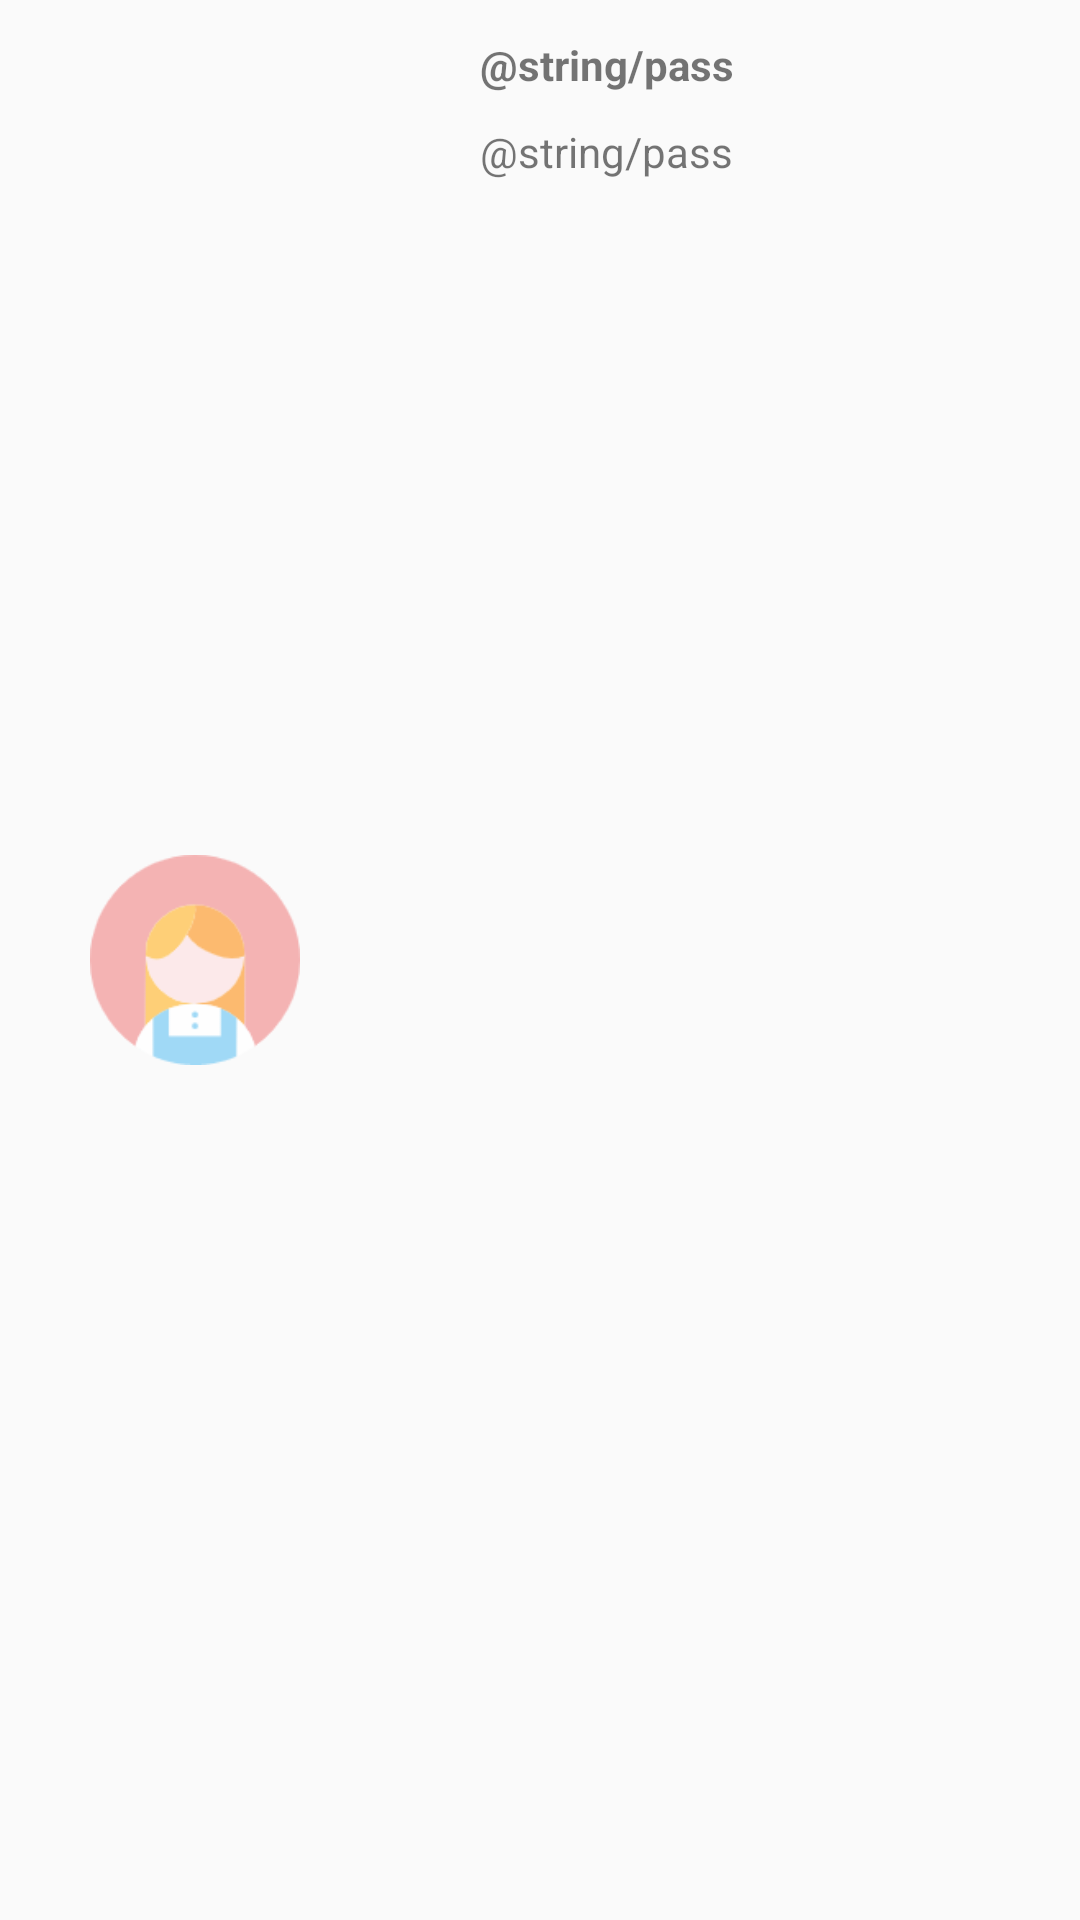

Screen size 1080px x 1920px. Icon name, then its box in pixels as (x1, y1, x2, y2):
defulthead: (90, 855, 300, 1065)
